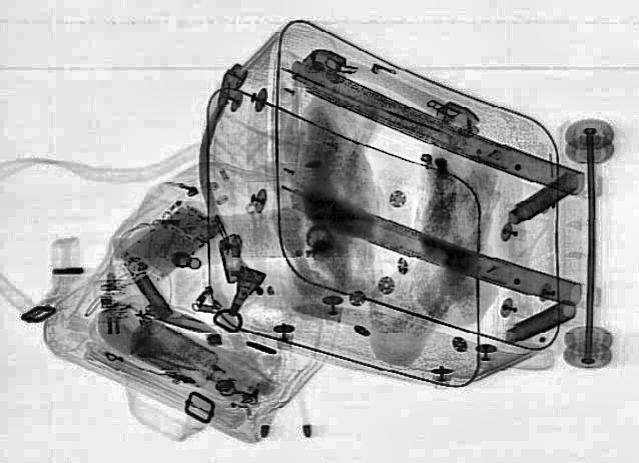Knife: (138, 300, 222, 338)
